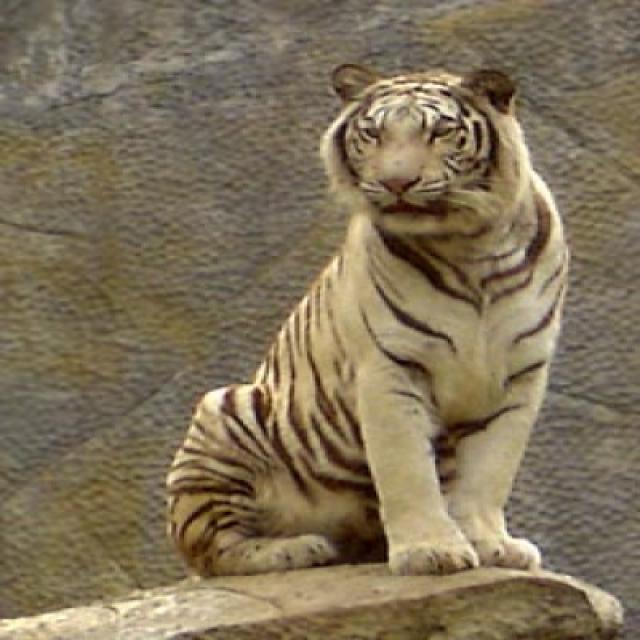Tiger: (166, 64, 568, 574)
